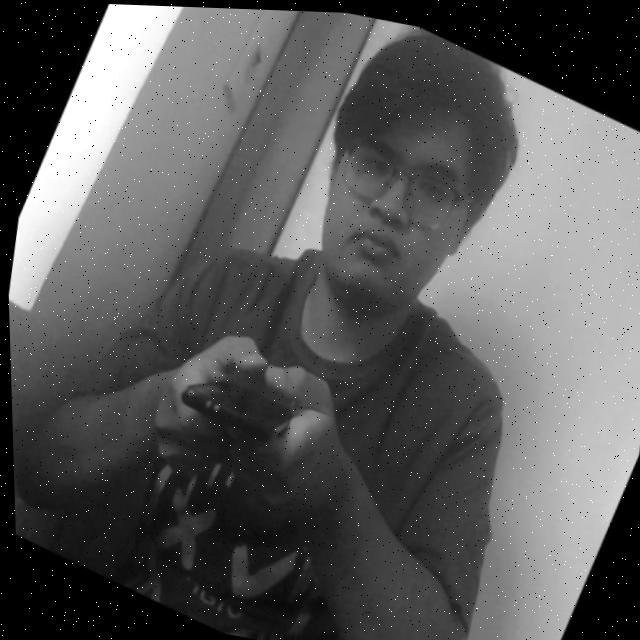phone: (143, 318, 341, 493)
